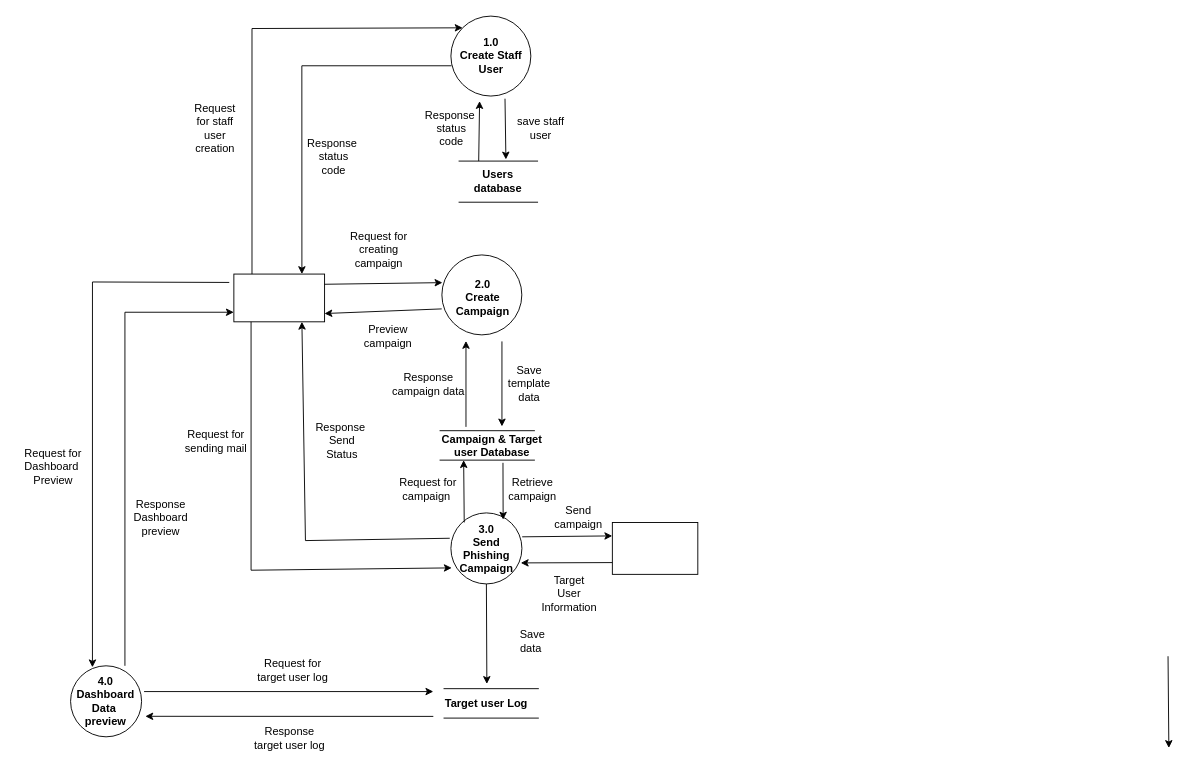
Image size: 1192x777. Some labels were removed from this diagram. Here are the shapes that lost their labels. From the top down, the centre of each, then its label:
the point at 279,297: System User
the point at 654,548: Target User
